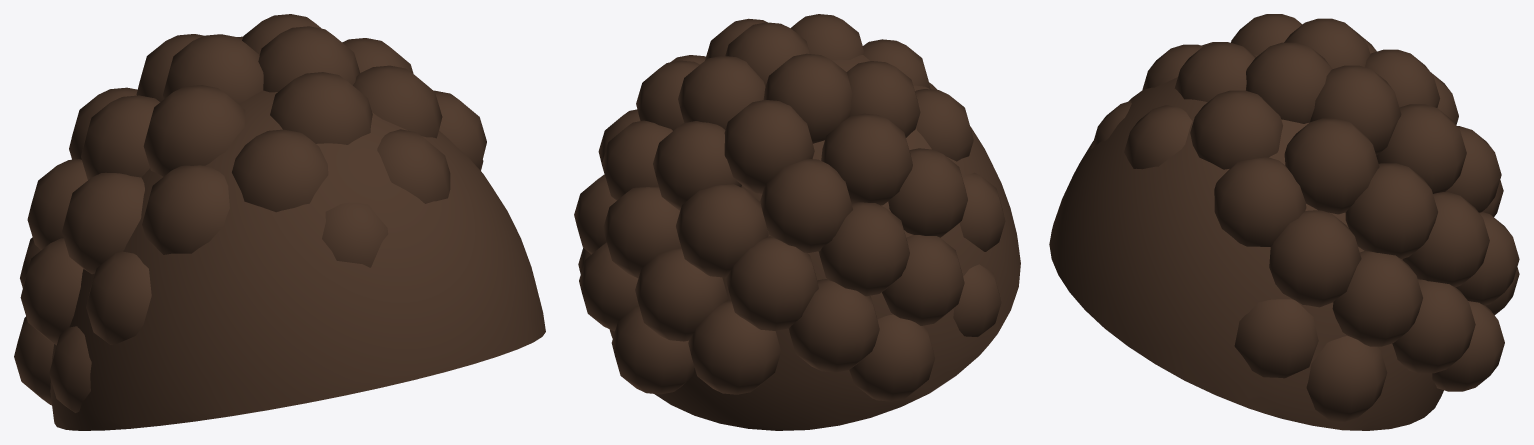
Rendered from hair_curly.fbx.
3 views of the same model, side by side, from view 1: azimuth 30°, elevation 25°; view 2: azimuth 150°, elevation 25°; view 3: azimuth 270°, elevation 25° (orthographic). The views are drawn at different scales.
Parts seen in each view (by area): view 1: hair_curly; view 2: hair_curly; view 3: hair_curly.
Part boxes in pixels (x1,y1,x2,y2): hair_curly: [14, 14, 545, 430]; hair_curly: [574, 14, 1020, 430]; hair_curly: [1049, 14, 1519, 430].
Size of the model in its own units: 0.3268 by 0.2743 by 0.3336.
